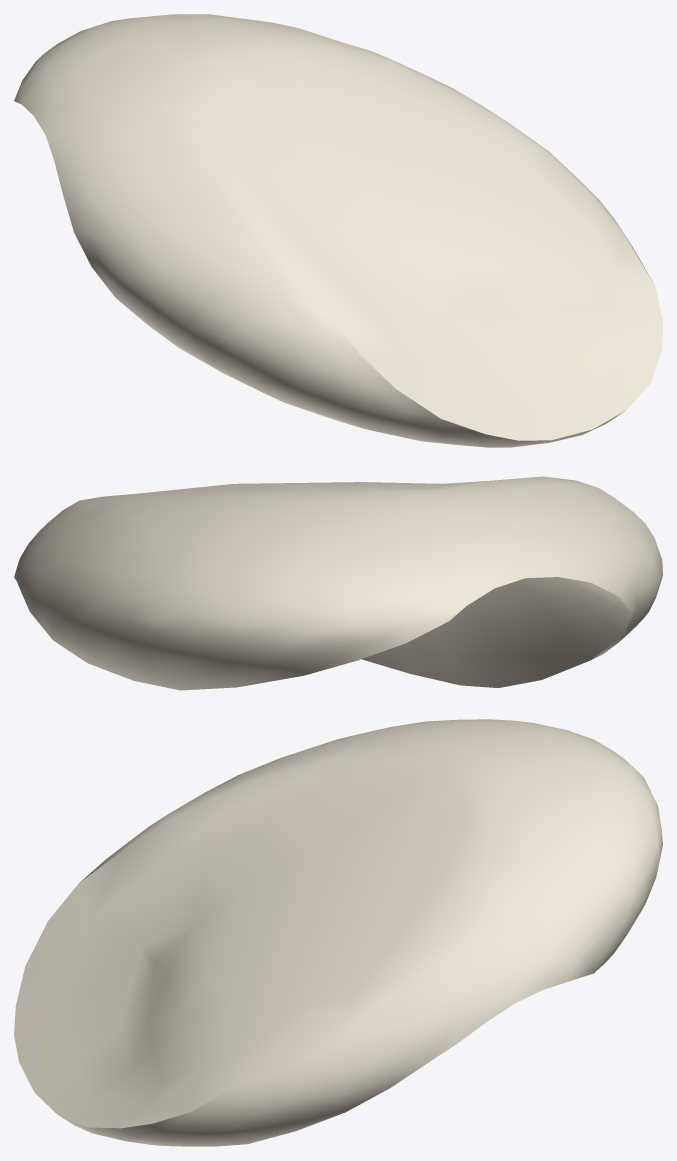
File: fma56092_mm1057m.glb
3 renders of one model, top to bottom at view 1: azimuth 30°, elevation 25°; view 2: azimuth 150°, elevation 25°; view 3: azimuth 270°, elevation 25°, orthographic. The views are drawn at different scales.
Visible parts, largest first — view 1: FMA56092_MM1057M; view 2: FMA56092_MM1057M; view 3: FMA56092_MM1057M.
Boxes of the visible parts, x1,y1,x2,y2 form: FMA56092_MM1057M: (14,14,662,447); FMA56092_MM1057M: (14,476,662,690); FMA56092_MM1057M: (14,719,662,1146).
Size of the model in its own units: 0.00469 by 0.00245 by 0.00526.
